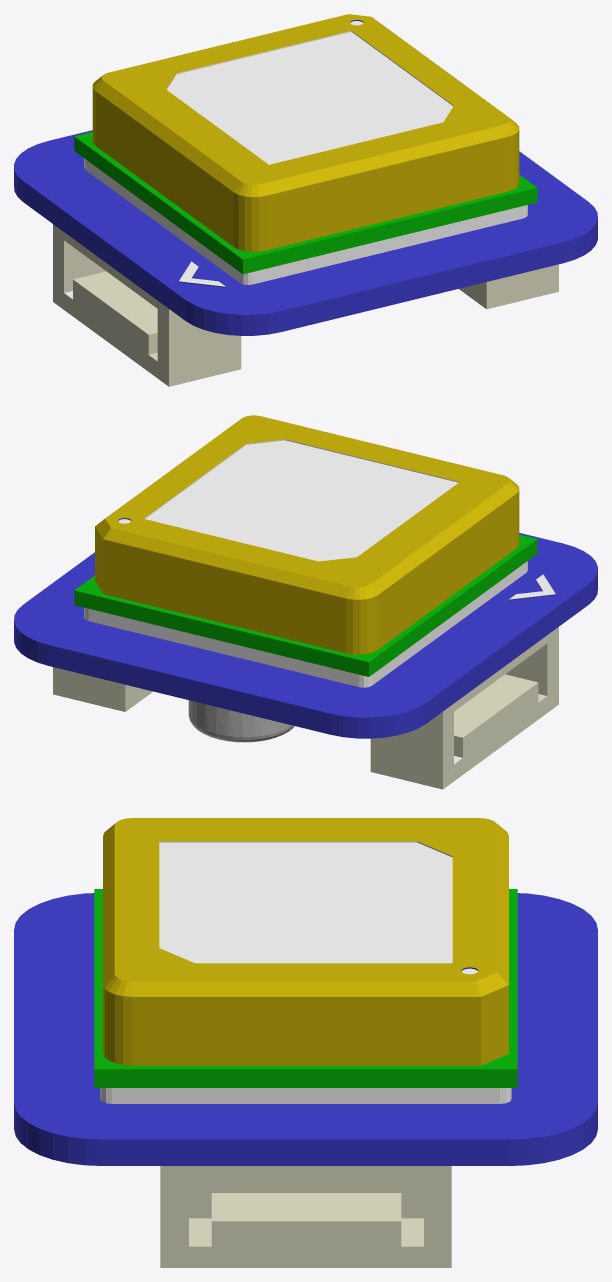
File: model_matek_m10q-D4yPPrqy.glb
3 views of the same model, one above another, from view 1: azimuth 30°, elevation 25°; view 2: azimuth 150°, elevation 25°; view 3: azimuth 270°, elevation 25° (orthographic). The views are drawn at different scales.
Bounding box in the file's own units: 20 × 9.4 × 20.
